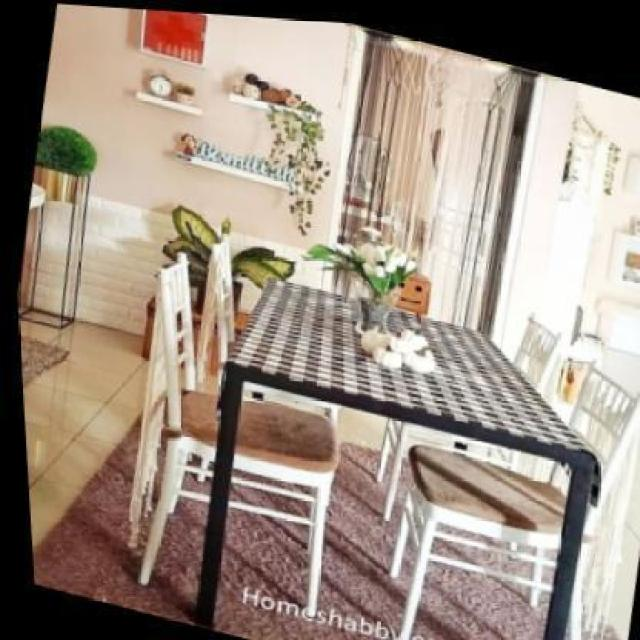tables: (197, 277, 603, 638)
